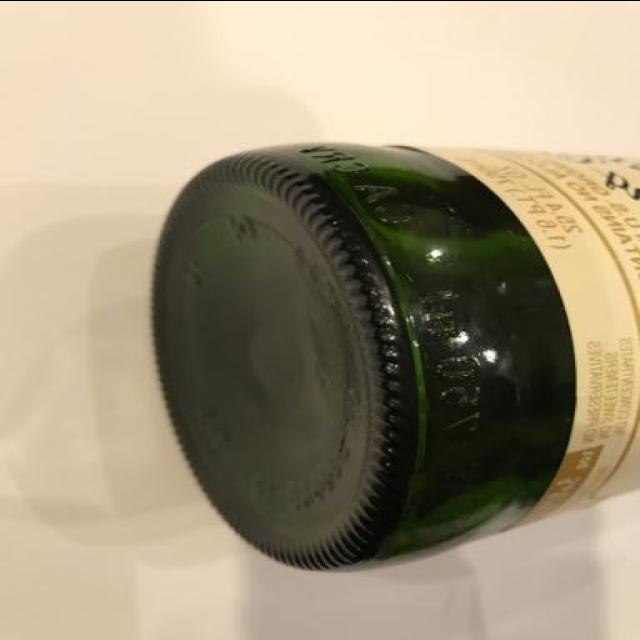glass: (146, 130, 640, 576)
